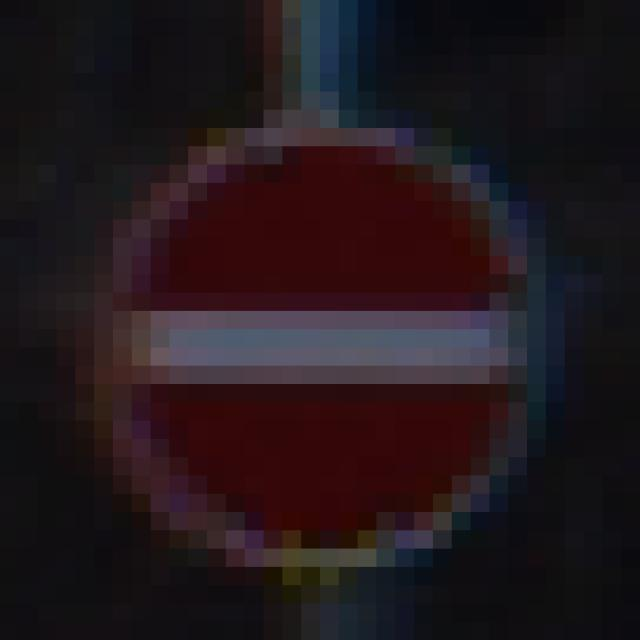No Entry: (95, 111, 547, 550)
